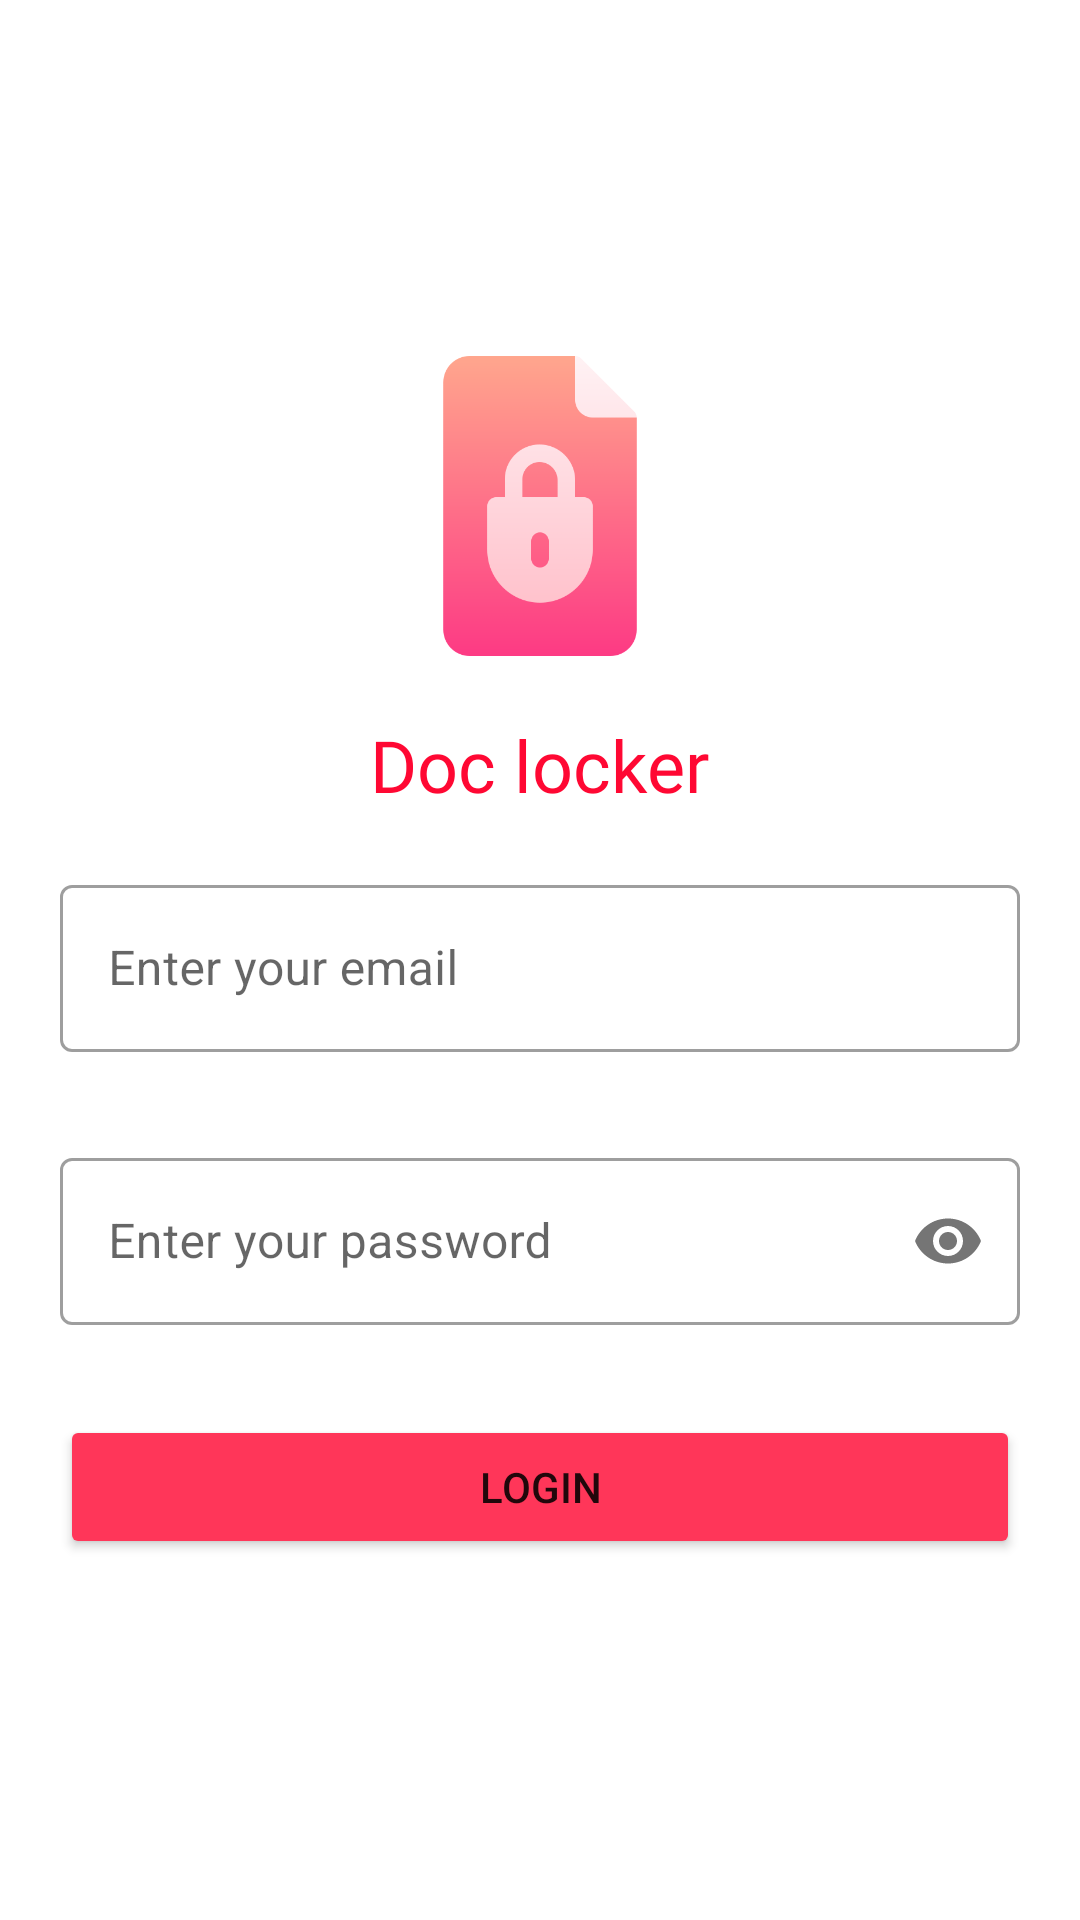

Icon bounding boxes for this 1080x1920 phone screenshot, format (x1, y1, x2, y2):
file: (443, 356, 637, 656)
